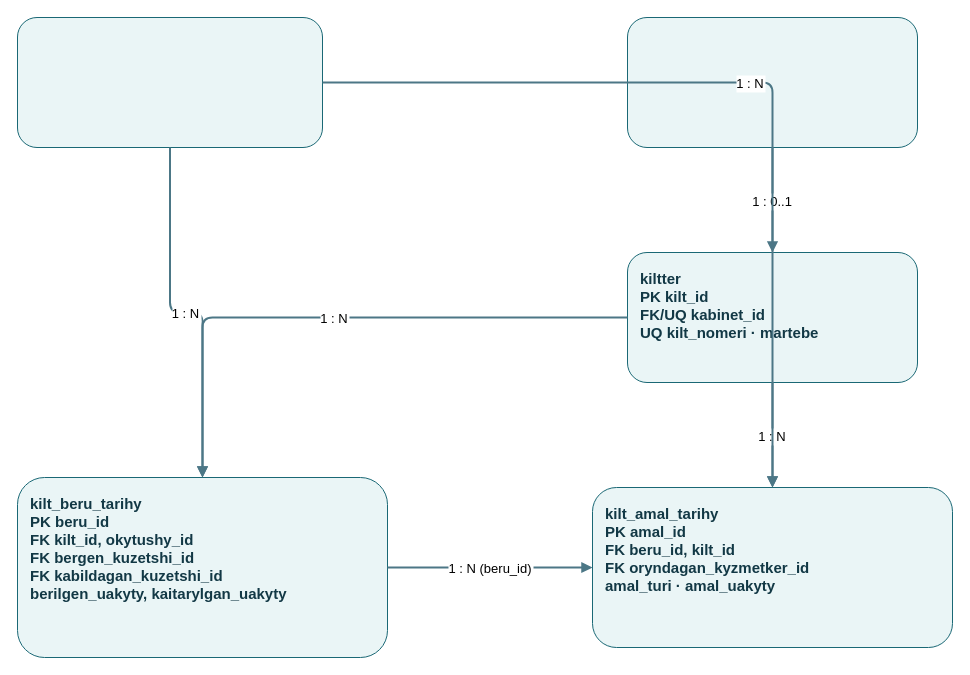
This 970x675 diagram has some shape labels left out. The shapes that lost their labels are listed below. From the top down, each one's box as (x1, y1, x2, y2) in pixels, then its label:
(16, 16, 322, 148): kyzmetkerler PK kyzmetker_id UQ kyzmetker_kody aty_zhoni · roli · belsendi
(626, 16, 918, 148): kabinetter PK kabinet_id gimarat · kabinet_nomeri sipattama
